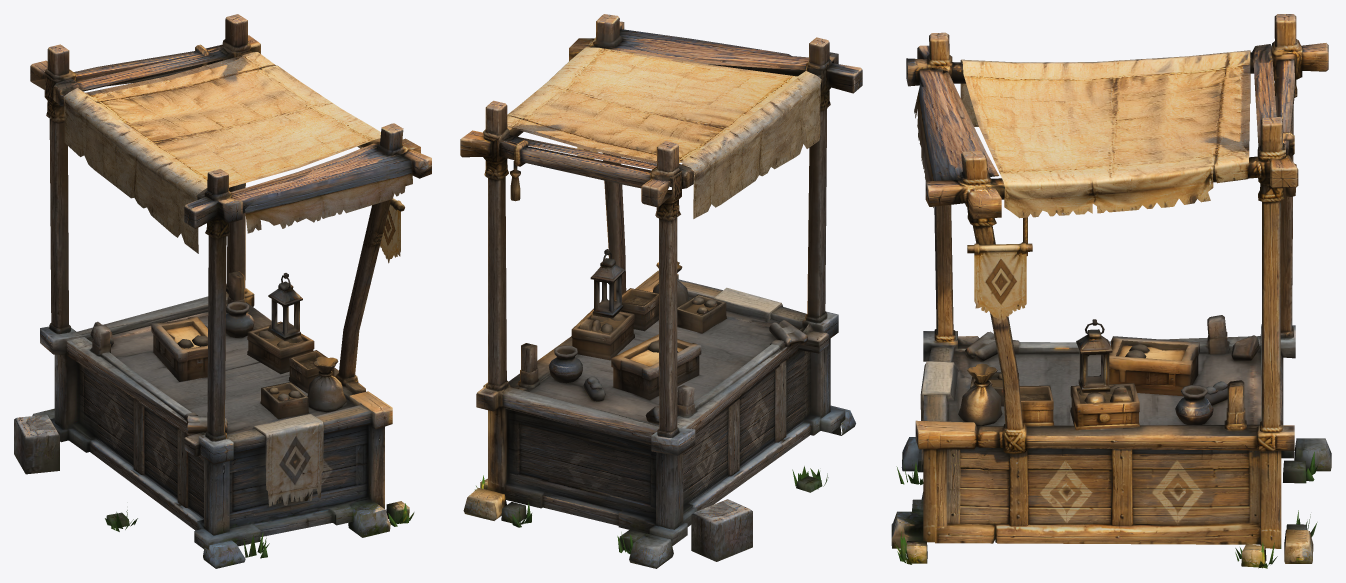
File: market+stall+3d+model.fbx
3 renders of one model, left to right at view 1: azimuth 30°, elevation 25°; view 2: azimuth 150°, elevation 25°; view 3: azimuth 270°, elevation 25°, orthographic. The views are drawn at different scales.
Parts seen in each view (by area): view 1: e6b8e21e_b31d_4433_8c94_3bbab50a303f; view 2: e6b8e21e_b31d_4433_8c94_3bbab50a303f; view 3: e6b8e21e_b31d_4433_8c94_3bbab50a303f.
Boxes of the visible parts, box(x1,y1,x2,y2) form: e6b8e21e_b31d_4433_8c94_3bbab50a303f: box(14, 14, 431, 568); e6b8e21e_b31d_4433_8c94_3bbab50a303f: box(460, 14, 862, 568); e6b8e21e_b31d_4433_8c94_3bbab50a303f: box(891, 14, 1331, 568).
Size of the model in its own units: 0.7485 by 0.9995 by 0.896.
